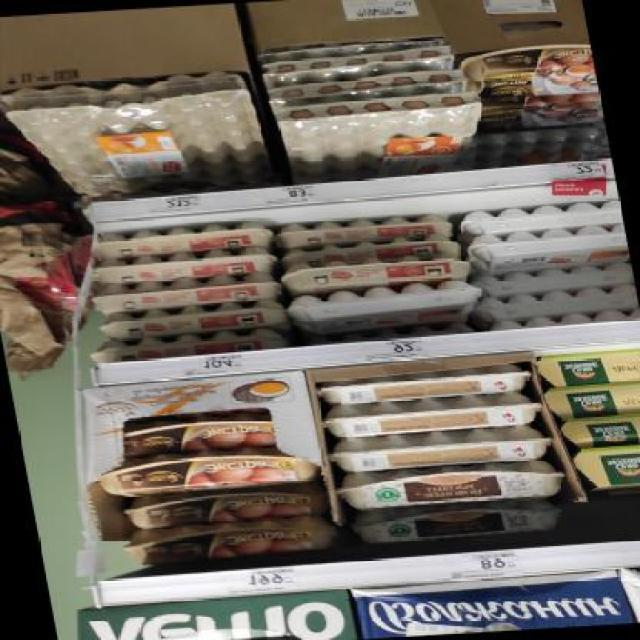egg: (337, 459, 568, 512), (94, 445, 323, 498), (118, 515, 339, 568), (345, 498, 566, 548), (120, 484, 332, 530), (278, 252, 472, 296), (464, 224, 630, 274), (98, 300, 291, 342), (92, 272, 282, 313), (459, 44, 598, 100), (86, 328, 292, 364), (87, 221, 275, 259), (90, 247, 278, 285), (117, 411, 275, 455), (276, 234, 464, 270), (272, 211, 456, 247), (469, 92, 605, 134)
